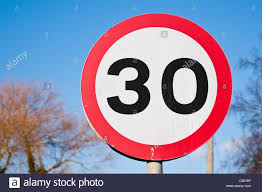Speed_limit_30km: (80, 13, 233, 162)
